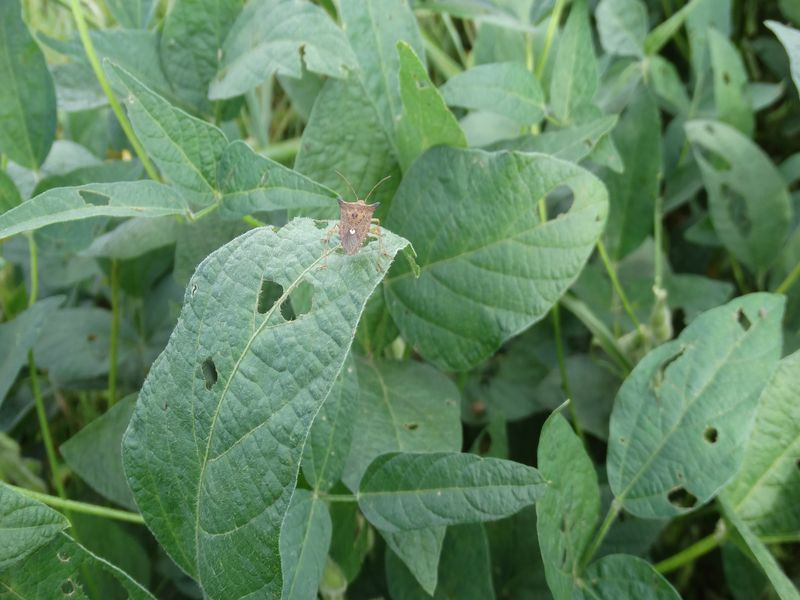Euschistus_heros_adulto: (314, 169, 401, 279)
